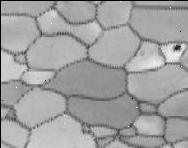good_void: (171, 44, 181, 52)
